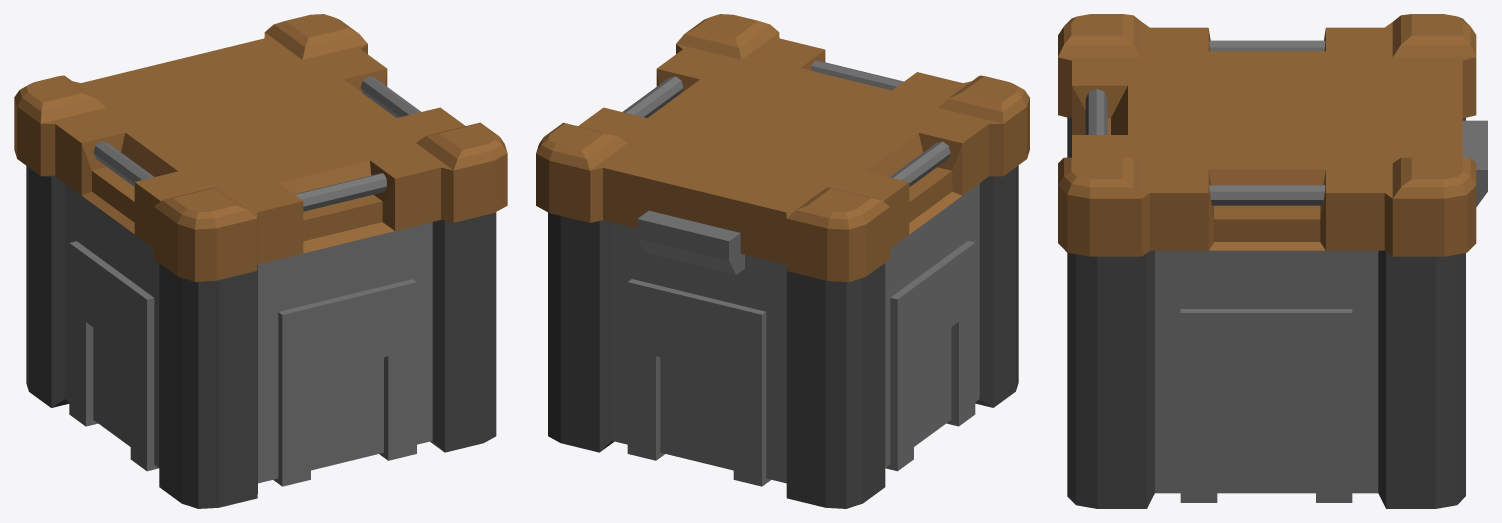
File: Lootbox.glb
The picture shows the model from 3 angles, left to right: view 1: azimuth 30°, elevation 25°; view 2: azimuth 150°, elevation 25°; view 3: azimuth 270°, elevation 25°; orthographic projection. The views are drawn at different scales.
Visible parts, largest first — view 1: Lootbox_Base, Lootbox_Top; view 2: Lootbox_Base, Lootbox_Top; view 3: Lootbox_Base, Lootbox_Top.
Boxes of the visible parts, box(x1,y1,x2,y2) form: Lootbox_Base: box(26, 166, 496, 508); Lootbox_Top: box(14, 14, 507, 281); Lootbox_Base: box(548, 165, 1018, 508); Lootbox_Top: box(536, 14, 1029, 282); Lootbox_Base: box(1067, 117, 1465, 508); Lootbox_Top: box(1058, 14, 1487, 256).
Bounding box in the file's own units: 0.5919 × 0.5121 × 0.6081.
